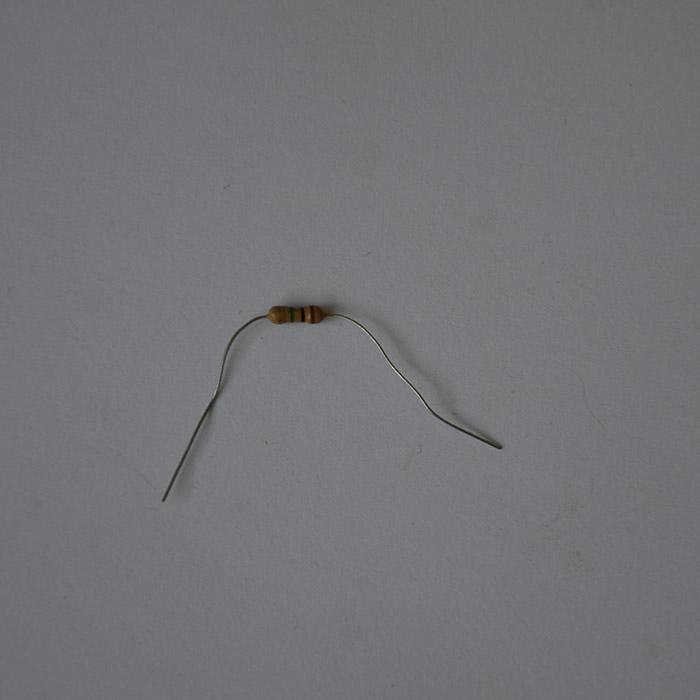resistor: (267, 304, 322, 324)
